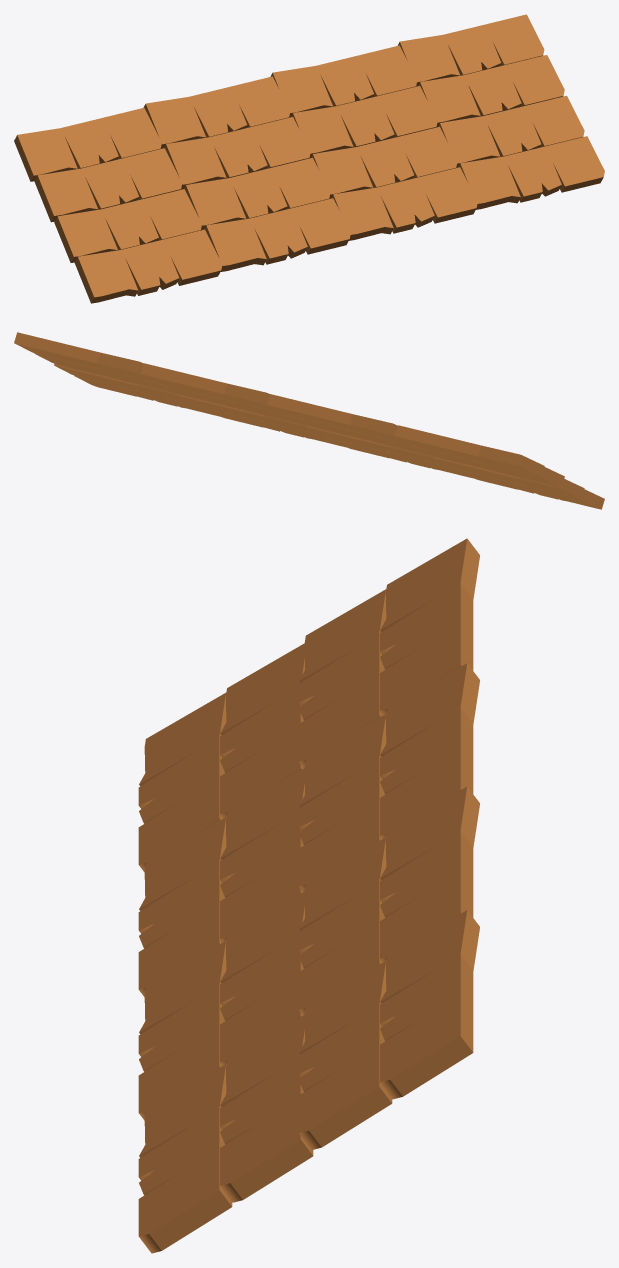
File: SM_Tiles1_LOD0.fbx
The picture shows the model from 3 angles, top to bottom: view 1: azimuth 30°, elevation 25°; view 2: azimuth 150°, elevation 25°; view 3: azimuth 270°, elevation 25°; orthographic projection. The views are drawn at different scales.
Parts seen in each view (by area): view 1: SM_Tiles1_LOD0; view 2: SM_Tiles1_LOD0; view 3: SM_Tiles1_LOD0.
Part boxes in pixels (bbox=[...]): SM_Tiles1_LOD0: bbox=[14, 14, 604, 303]; SM_Tiles1_LOD0: bbox=[14, 332, 604, 509]; SM_Tiles1_LOD0: bbox=[138, 538, 479, 1253].
Bounding box in the file's own units: 14.98 × 3.17 × 4.35.
